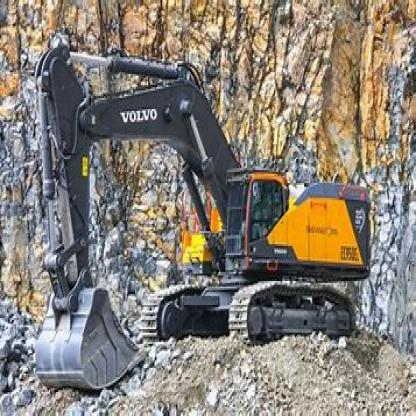excavator: (32, 32, 370, 388)
